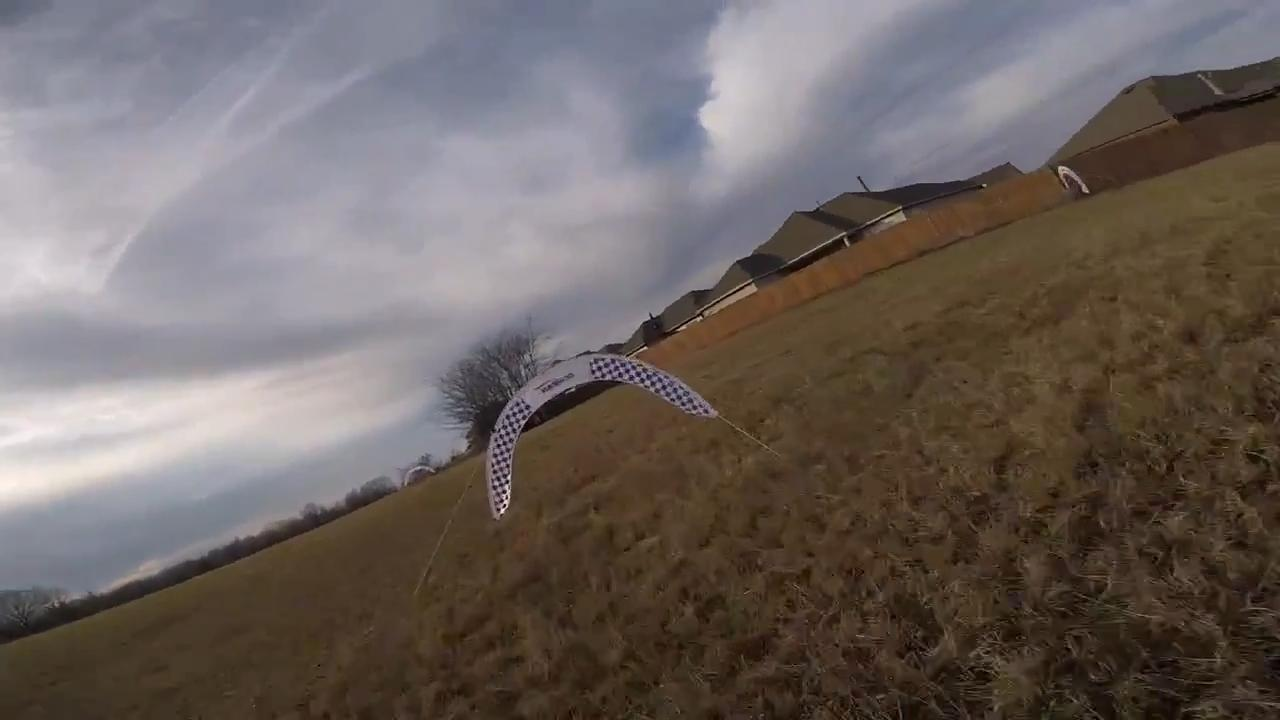gate: (481, 348, 721, 523)
